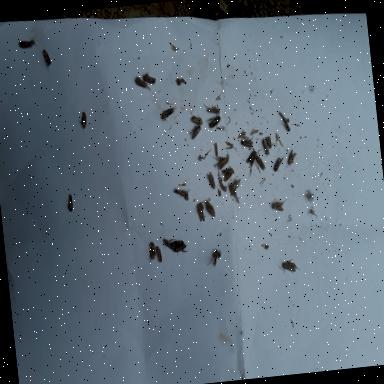pbw: (282, 258, 302, 275), (272, 154, 288, 173), (203, 101, 222, 116), (213, 154, 230, 170), (271, 198, 289, 213), (240, 134, 256, 150), (206, 114, 222, 130), (206, 249, 219, 268), (134, 75, 150, 90), (285, 150, 298, 168), (245, 150, 261, 164), (42, 48, 52, 70), (147, 242, 157, 264), (172, 244, 190, 256), (161, 106, 178, 118), (142, 72, 156, 85), (256, 154, 266, 172), (190, 125, 202, 140), (196, 203, 205, 222), (207, 172, 216, 190), (78, 112, 88, 128), (262, 138, 270, 158), (66, 194, 74, 212), (155, 246, 163, 264), (163, 237, 174, 250), (191, 115, 204, 126), (170, 240, 186, 248), (174, 188, 186, 198)
